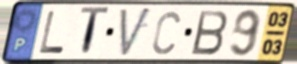9: (229, 7, 263, 58)
B: (189, 9, 230, 57)
C: (150, 9, 182, 56)
L: (37, 9, 65, 55)
T: (78, 6, 112, 60)
V: (118, 5, 154, 60)
